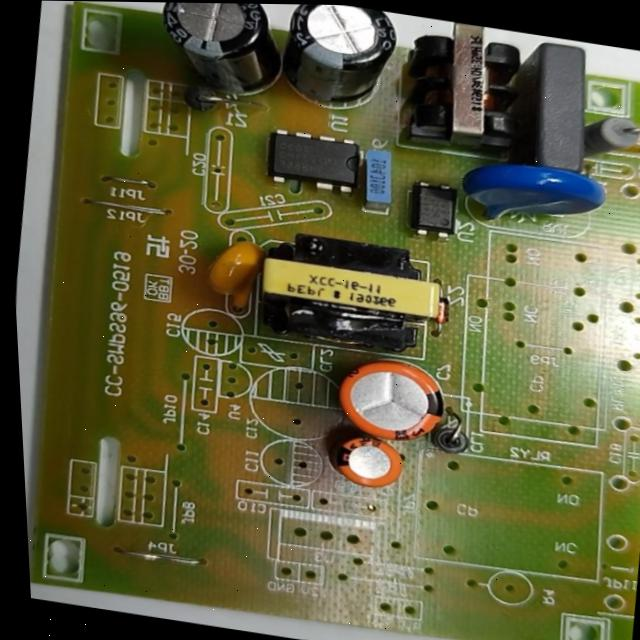Cap1: (325, 350, 459, 455)
Cap2: (321, 428, 416, 500)
Cap3: (264, 4, 415, 117)
Cap4: (144, 2, 300, 113)
MOSFET: (257, 121, 372, 202)
Mov: (450, 154, 617, 246)
Resistor: (571, 105, 640, 167)
Transformer: (236, 215, 460, 367), (388, 15, 538, 165)
